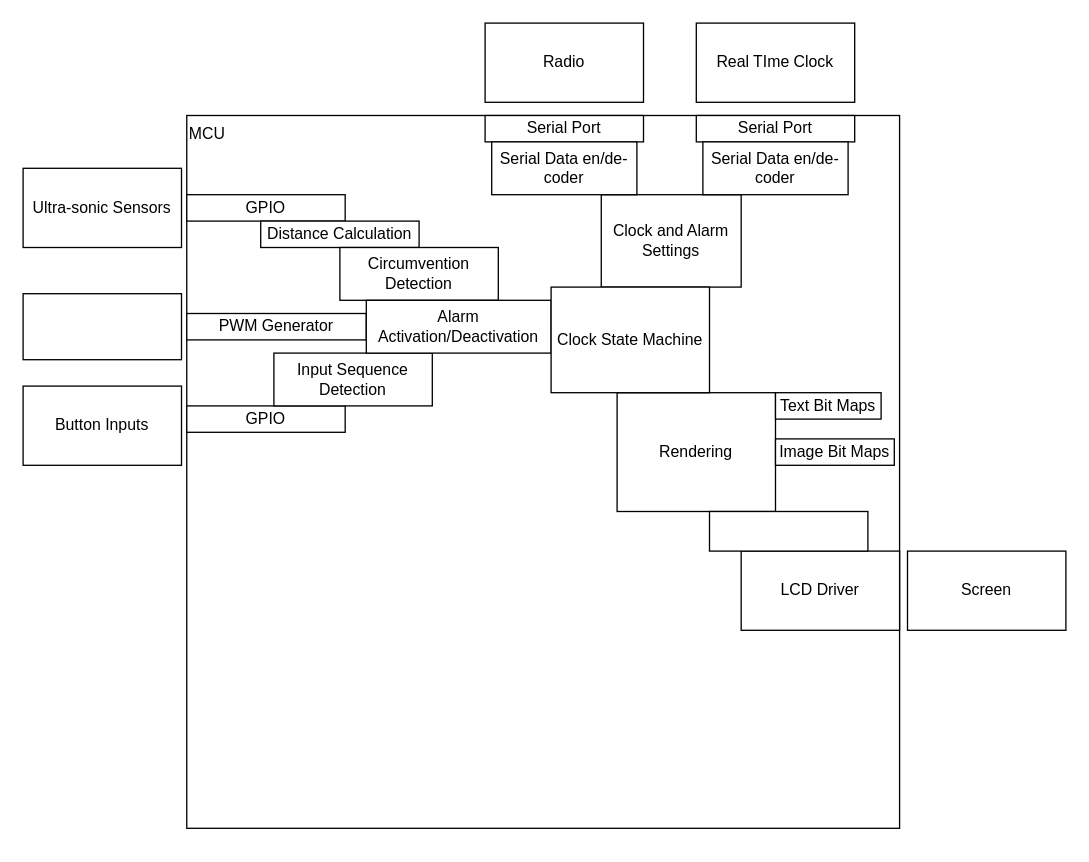
Image size: 1089x862. Some labels were removed from this diagram. Here are the shapes that lost their labels. From the top down, the box of each, then its label:
(22, 292, 182, 360): Buzzer
(708, 510, 868, 551): Screen Buffer
